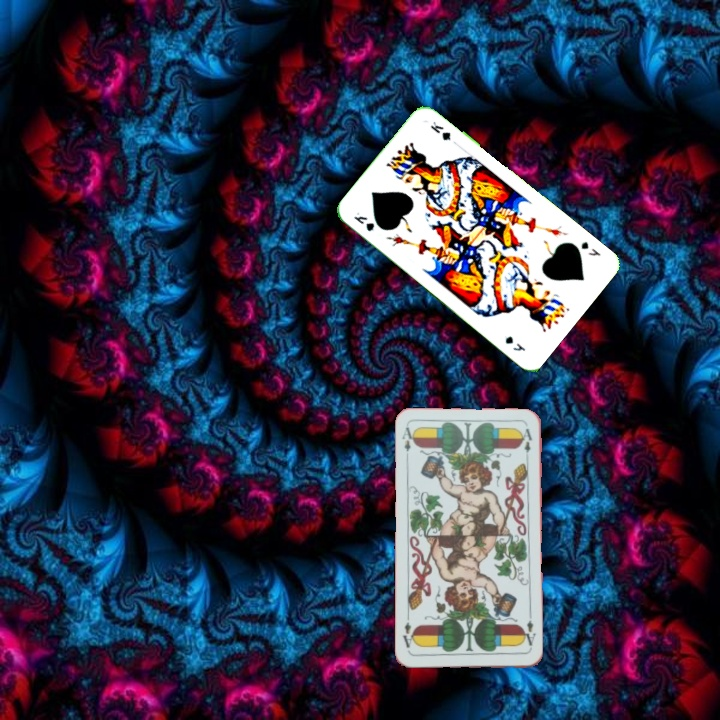EA: (518, 611, 538, 652), (398, 423, 418, 463)
GK: (350, 212, 377, 234), (577, 237, 603, 259)
